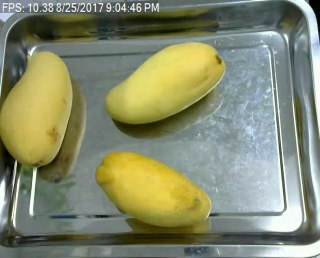Mango: (101, 41, 227, 130), (93, 151, 217, 229), (0, 49, 74, 171)
